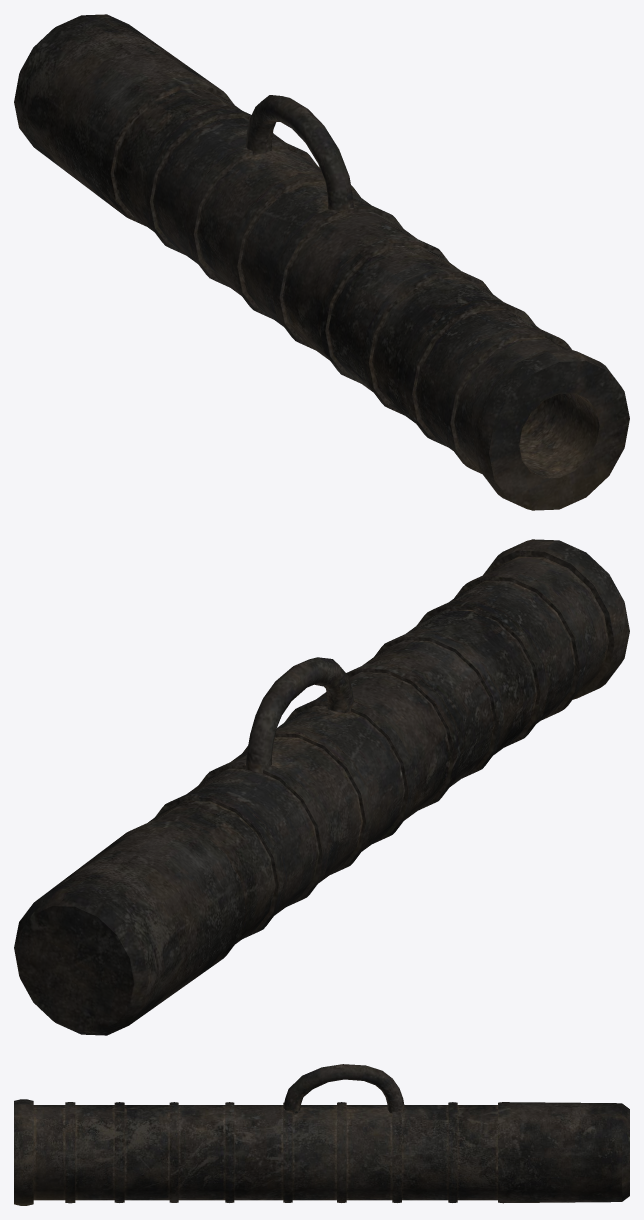
Rendered from cannon.glb.
The picture shows the model from 3 angles, top to bottom: view 1: azimuth 30°, elevation 25°; view 2: azimuth 150°, elevation 25°; view 3: azimuth 270°, elevation 25°; orthographic projection. The views are drawn at different scales.
Parts seen in each view (by area): view 1: SM_Hyeonja_Chongtong_Gun; view 2: SM_Hyeonja_Chongtong_Gun; view 3: SM_Hyeonja_Chongtong_Gun.
Boxes of the visible parts, x1=… form: SM_Hyeonja_Chongtong_Gun: x1=14, y1=14, x2=629, y2=510; SM_Hyeonja_Chongtong_Gun: x1=14, y1=539, x2=629, y2=1035; SM_Hyeonja_Chongtong_Gun: x1=14, y1=1064, x2=629, y2=1205.
Bounding box in the file's own units: 0.1358 × 0.1922 × 0.785.
1 material, 1 textured.
